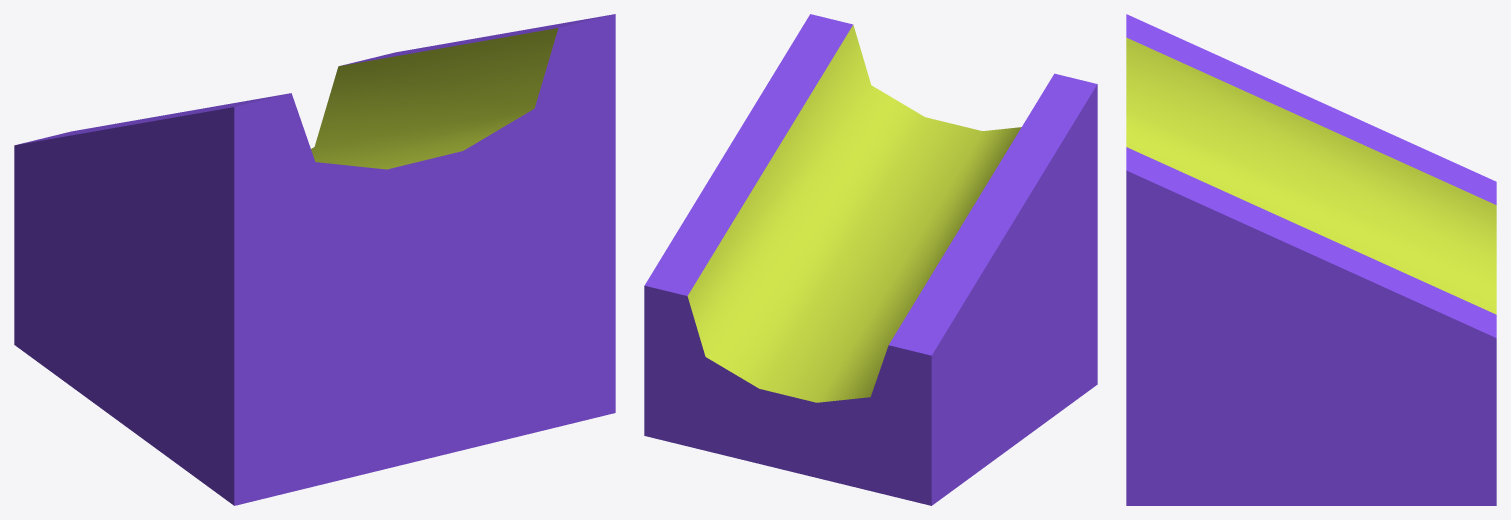
The model's file is slant_solid_B.fbx.
3 views of the same model, side by side, from view 1: azimuth 30°, elevation 25°; view 2: azimuth 150°, elevation 25°; view 3: azimuth 270°, elevation 25° (orthographic). The views are drawn at different scales.
Parts seen in each view (by area): view 1: slant_solid_B; view 2: slant_solid_B; view 3: slant_solid_B.
Part boxes in pixels (x1,y1,x2,y2): slant_solid_B: (14, 14, 615, 505); slant_solid_B: (644, 14, 1097, 505); slant_solid_B: (1126, 14, 1496, 505).
Bounding box in the file's own units: 10 × 10 × 10.
